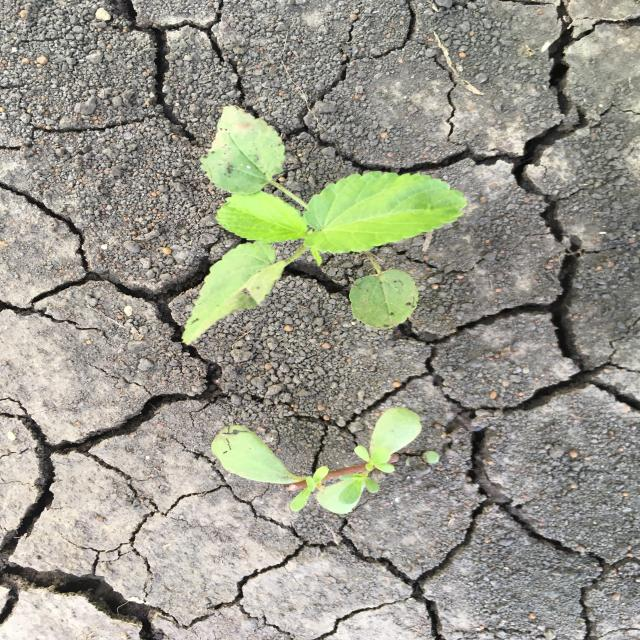PricklySida: (180, 104, 470, 348)
Purslane: (210, 406, 441, 516)
